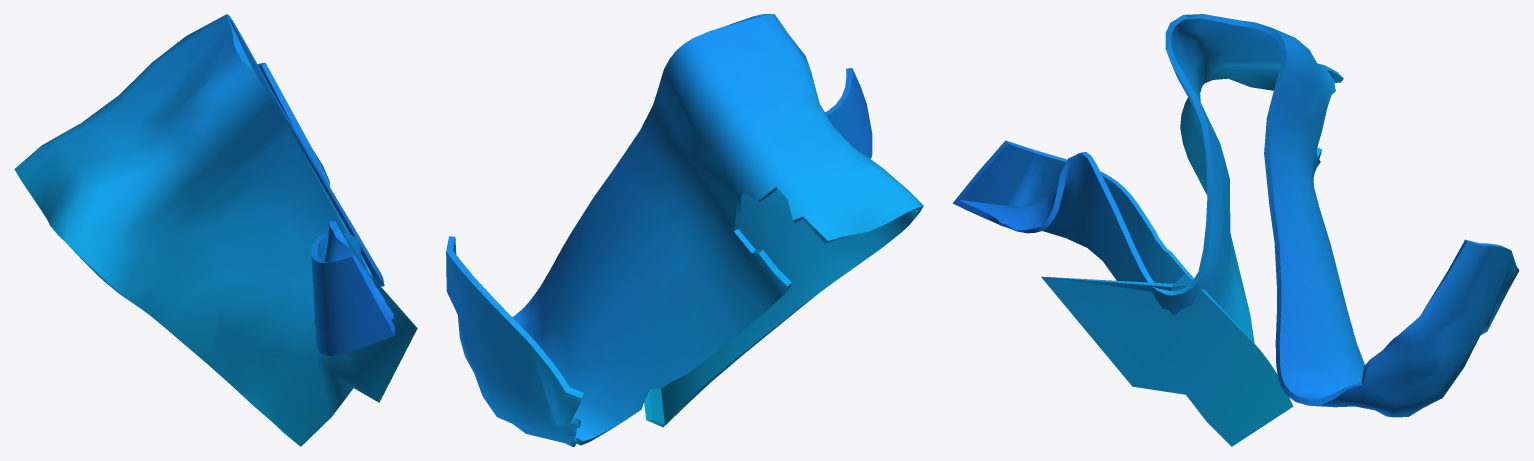
Rendered from s1_lh_underglow_arm.fbx.
3 renders of one model, left to right at view 1: azimuth 30°, elevation 25°; view 2: azimuth 150°, elevation 25°; view 3: azimuth 270°, elevation 25°, orthographic. The views are drawn at different scales.
Visible parts, largest first — view 1: s1_lh_underglow_arm; view 2: s1_lh_underglow_arm; view 3: s1_lh_underglow_arm.
Boxes of the visible parts, <box> form: s1_lh_underglow_arm: <box>14,14,417,446</box>; s1_lh_underglow_arm: <box>446,14,923,446</box>; s1_lh_underglow_arm: <box>952,14,1519,446</box>.
Bounding box in the file's own units: 201 × 218 × 282.
